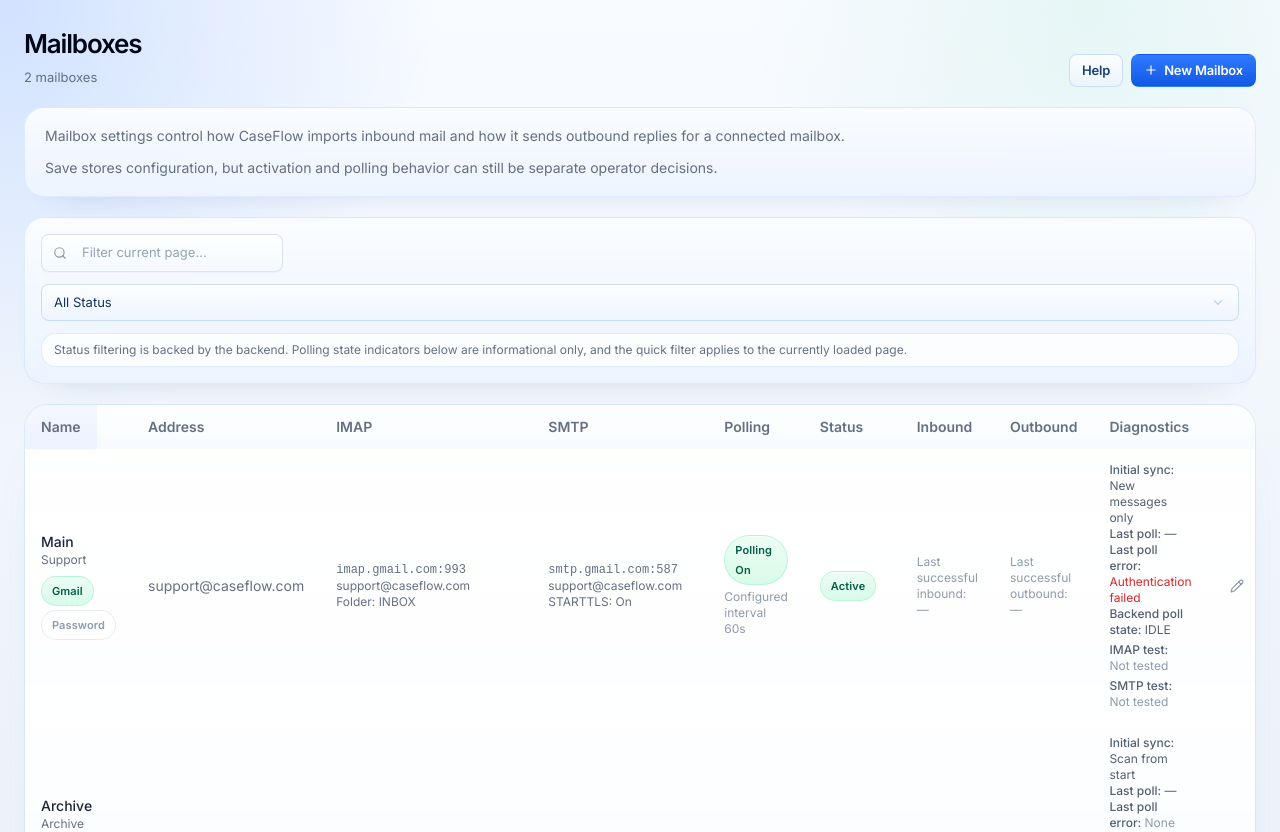
Test: MailboxManagementPage › shows manual guidance for Other IMAP provider
What coordinates should you click on to do the following:
click the button "New Mailbox"
I would click on:
 (1194, 70)
Its box is [1131, 54, 1256, 87].
(page scrolled)
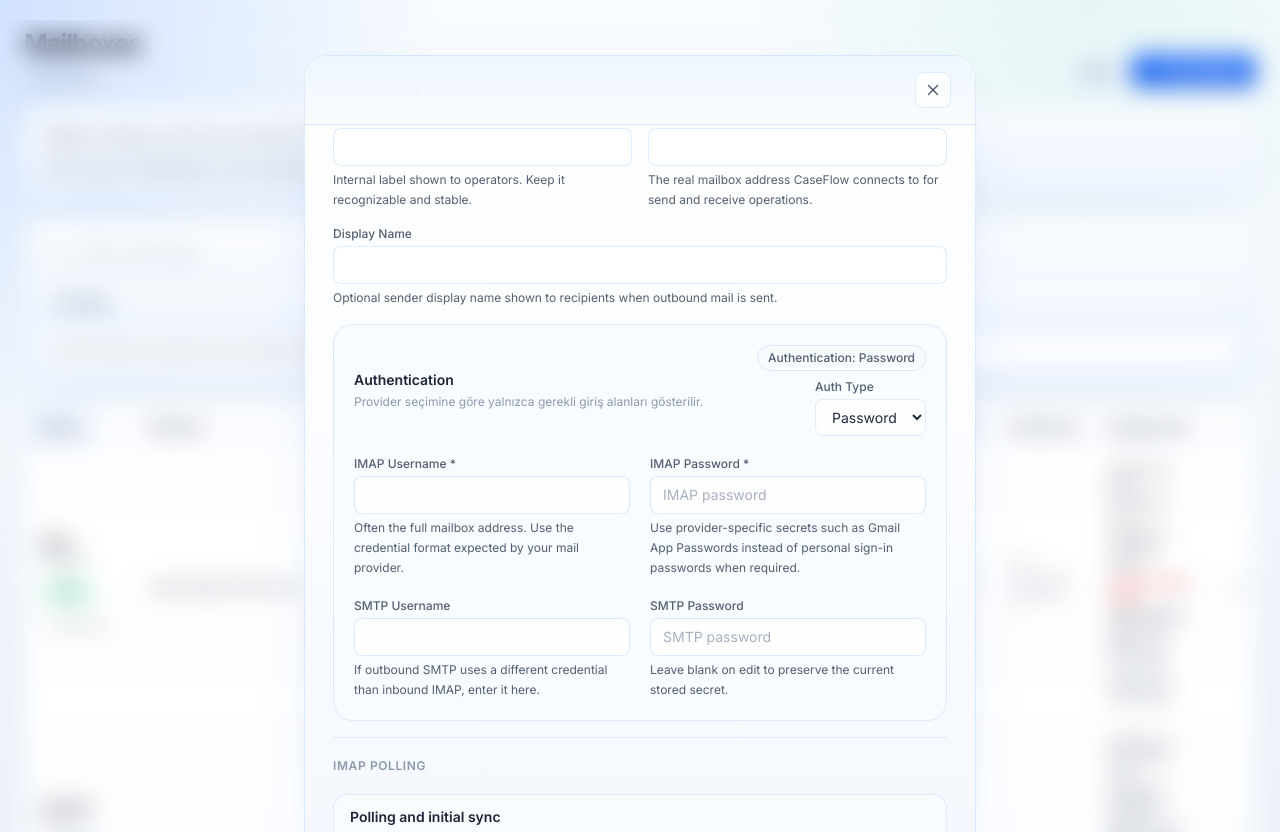
Expected: the password field named "IMAP Password *" is shown, [650, 476, 926, 514]
